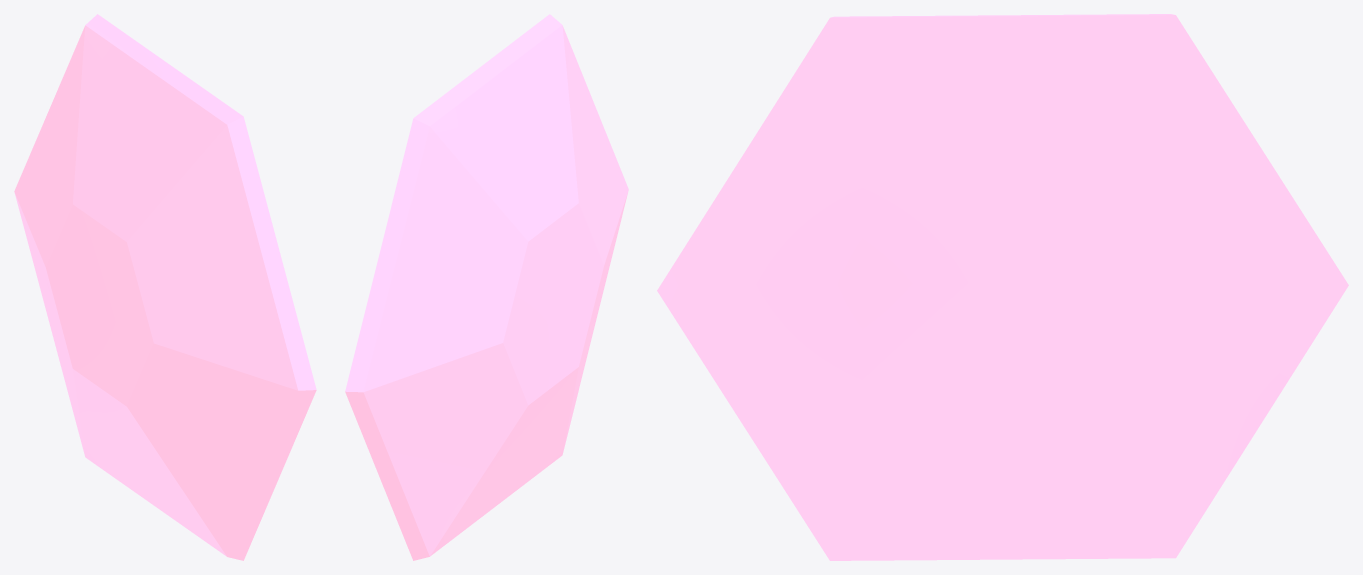
File: lvl1_L_switch1_light1.glb
The picture shows the model from 3 angles, left to right: view 1: azimuth 30°, elevation 25°; view 2: azimuth 150°, elevation 25°; view 3: azimuth 270°, elevation 25°; orthographic projection. The views are drawn at different scales.
Parts seen in each view (by area): view 1: lvl1_L_switch1_light; view 2: lvl1_L_switch1_light; view 3: lvl1_L_switch1_light.
Part boxes in pixels (box(x1,y1,x2,y2)): lvl1_L_switch1_light: box(14, 14, 316, 560); lvl1_L_switch1_light: box(345, 14, 628, 560); lvl1_L_switch1_light: box(657, 14, 1348, 560).
Size of the model in its own units: 1.32 by 7.23 by 8.35.
1 material, 1 textured.
